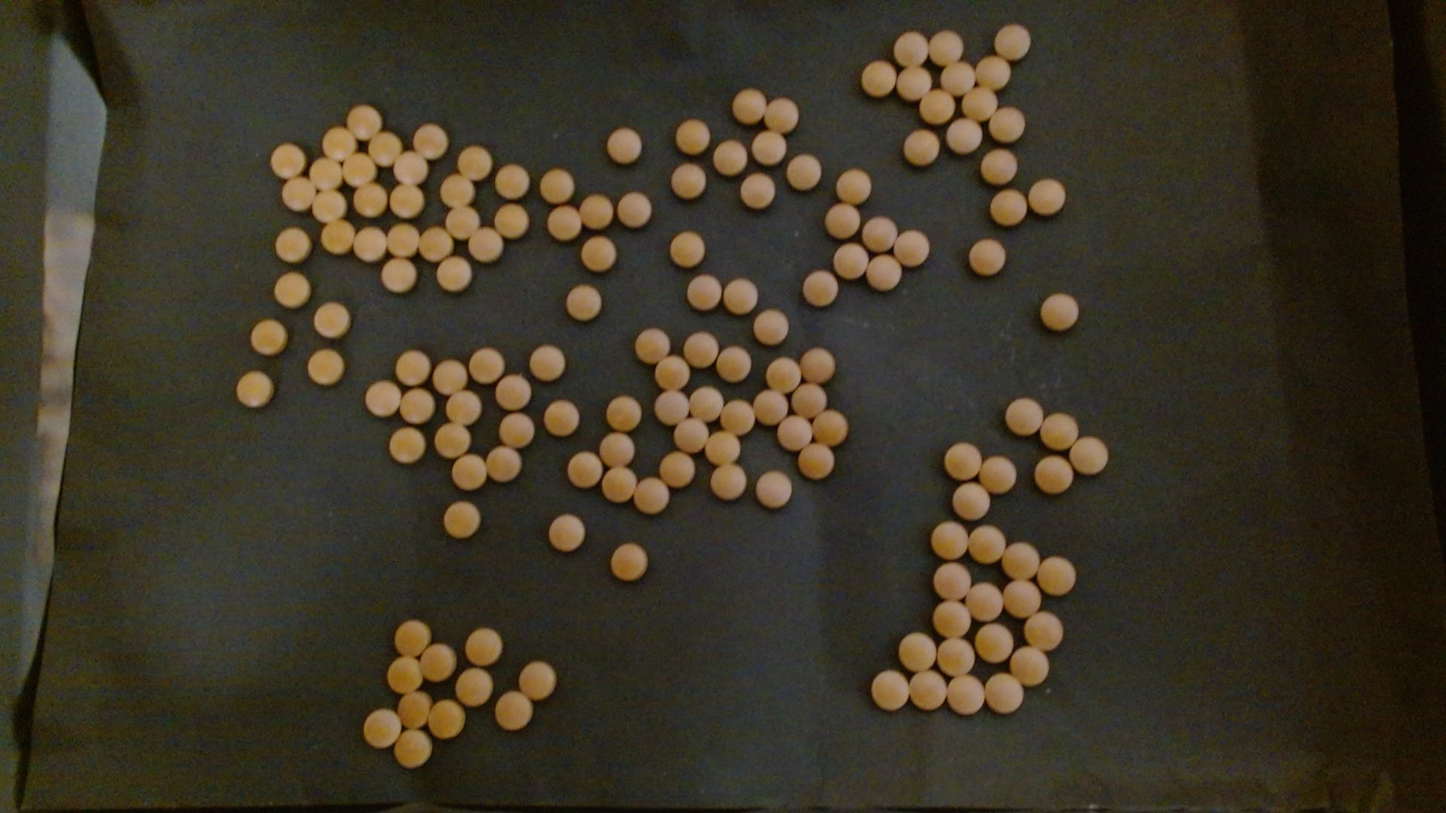Circle: (1037, 292, 1080, 333), (1068, 436, 1109, 477), (517, 660, 557, 701), (870, 670, 910, 711), (984, 673, 1024, 714), (950, 481, 990, 521), (1004, 397, 1044, 437), (1009, 647, 1049, 687), (1036, 556, 1077, 595), (363, 708, 402, 749), (1023, 611, 1064, 650), (908, 670, 947, 711), (1033, 455, 1073, 494), (943, 441, 983, 480), (932, 561, 972, 600), (932, 599, 971, 639), (968, 524, 1007, 564), (974, 623, 1014, 662), (947, 674, 986, 714), (494, 691, 532, 732), (898, 632, 937, 671), (609, 542, 648, 581), (1002, 579, 1041, 618), (393, 729, 432, 768), (931, 520, 969, 560), (1027, 178, 1066, 216), (1039, 412, 1078, 450), (978, 455, 1016, 494), (393, 619, 432, 657), (235, 370, 274, 408), (1002, 541, 1040, 580), (935, 638, 974, 676), (548, 513, 585, 553), (989, 188, 1027, 226), (902, 128, 940, 166), (388, 426, 426, 464), (464, 628, 502, 666), (455, 668, 493, 706), (443, 501, 481, 539), (307, 348, 345, 386), (528, 343, 566, 381), (273, 271, 311, 309), (755, 470, 792, 509), (980, 148, 1019, 185), (450, 453, 487, 492), (249, 318, 288, 355), (801, 270, 839, 307), (968, 238, 1005, 276), (386, 656, 423, 694), (580, 235, 617, 273), (633, 477, 670, 515), (987, 105, 1025, 142), (709, 464, 747, 501), (859, 60, 897, 97), (435, 256, 473, 293), (434, 422, 471, 460), (993, 23, 1030, 61), (964, 583, 1001, 621), (653, 388, 691, 425), (543, 399, 580, 437), (411, 122, 448, 160), (429, 699, 465, 738), (739, 172, 776, 209), (892, 230, 929, 267), (865, 254, 902, 291), (831, 242, 868, 279), (798, 443, 835, 480), (752, 309, 789, 346), (313, 301, 350, 338), (565, 284, 602, 321), (495, 374, 532, 411), (658, 452, 695, 489), (683, 331, 720, 368), (730, 87, 767, 124), (633, 327, 670, 364), (364, 379, 401, 416), (380, 257, 417, 294), (672, 417, 709, 454), (892, 31, 929, 68), (605, 394, 642, 431), (652, 354, 689, 391), (274, 226, 311, 263), (895, 64, 932, 101), (688, 385, 725, 422), (669, 230, 705, 268), (834, 168, 872, 204), (674, 117, 710, 155), (786, 153, 822, 191), (419, 643, 455, 681), (670, 163, 706, 201), (606, 127, 642, 165), (945, 117, 981, 154), (616, 192, 652, 229), (918, 88, 955, 124), (712, 139, 748, 176), (861, 216, 898, 252), (974, 54, 1011, 90), (485, 446, 521, 483), (498, 413, 535, 449), (394, 349, 431, 385), (792, 382, 828, 419), (270, 142, 306, 179), (347, 103, 383, 140), (493, 202, 529, 239), (456, 145, 493, 181), (398, 690, 432, 729), (686, 274, 722, 310), (825, 203, 861, 239), (940, 60, 976, 96), (765, 356, 801, 392), (812, 409, 848, 445), (716, 346, 752, 382), (799, 346, 835, 382), (432, 358, 468, 394), (399, 388, 435, 424), (468, 227, 504, 263), (493, 163, 529, 199), (321, 125, 357, 161), (392, 150, 428, 186), (389, 182, 425, 218), (439, 172, 475, 208), (723, 278, 758, 315), (961, 85, 998, 120), (468, 348, 505, 383), (579, 193, 614, 230), (445, 390, 482, 425), (352, 225, 387, 262), (281, 175, 316, 212), (763, 96, 798, 132), (751, 130, 786, 166), (567, 452, 602, 488), (776, 416, 812, 451), (601, 467, 636, 503), (539, 168, 575, 203), (719, 399, 755, 434), (599, 432, 635, 467), (752, 390, 788, 425), (320, 218, 355, 254), (353, 182, 388, 218), (311, 187, 346, 223), (367, 130, 402, 166), (705, 431, 740, 466), (546, 206, 581, 241), (418, 226, 453, 261), (928, 29, 962, 65), (445, 206, 480, 240), (309, 157, 343, 191), (342, 151, 376, 185), (387, 222, 420, 257)
